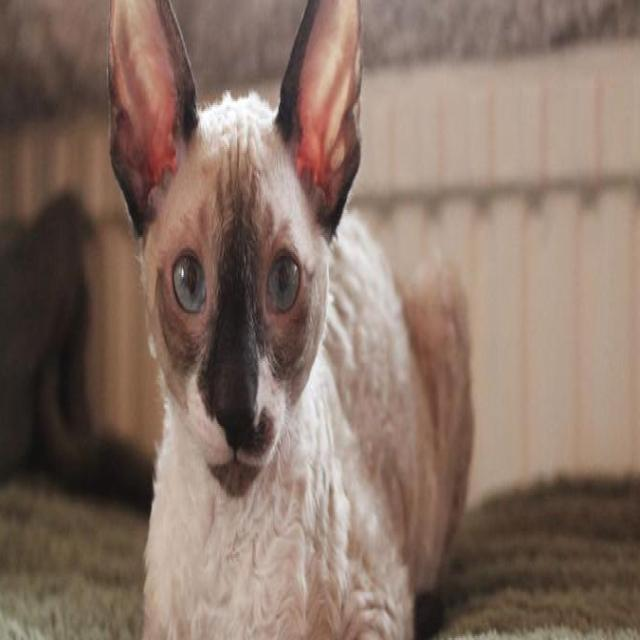Cornish Rex: (103, 0, 478, 640)
